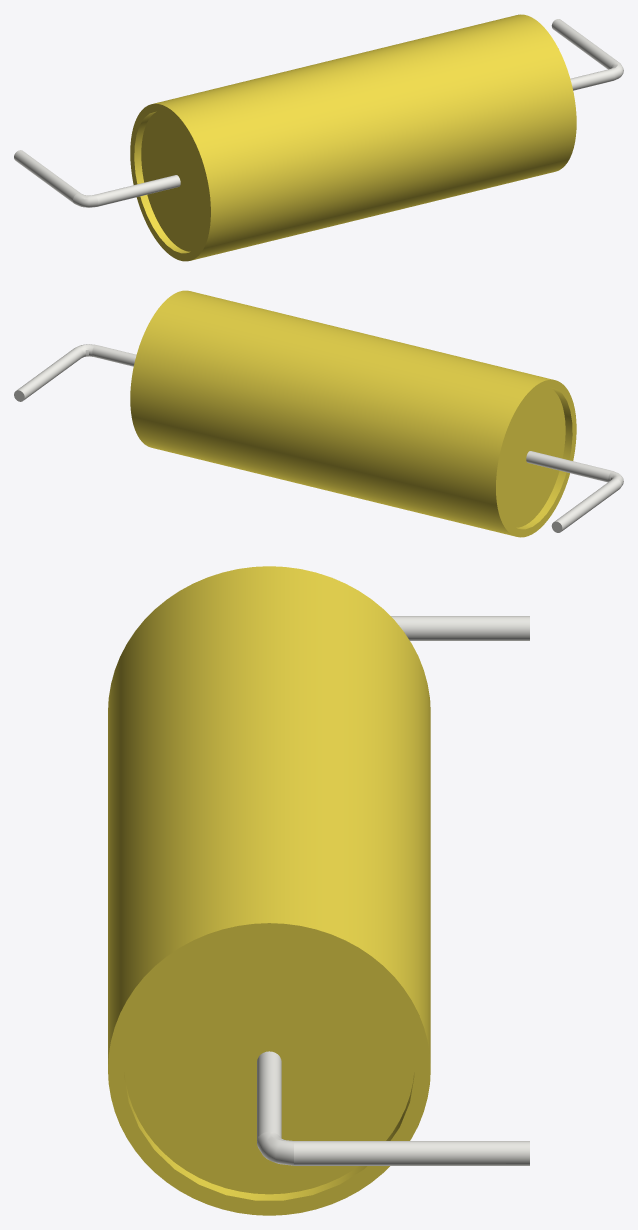
File: C_Axial_L17.0mm_D6.5mm_P25.00mm_Horizontal.glb
The picture shows the model from 3 angles, top to bottom: view 1: azimuth 30°, elevation 25°; view 2: azimuth 150°, elevation 25°; view 3: azimuth 270°, elevation 25°; orthographic projection. The views are drawn at different scales.
Parts seen in each view (by area): view 1: Shape_IndexedFaceSet, Shape_IndexedFaceSet.005, Shape_IndexedFaceSet.001, Shape_IndexedFaceSet.010, Shape_IndexedFaceSet.003, Shape_IndexedFaceSet.008, Shape_IndexedFaceSet.012; view 2: Shape_IndexedFaceSet, Shape_IndexedFaceSet.005, Shape_IndexedFaceSet.001, Shape_IndexedFaceSet.010, Shape_IndexedFaceSet.003, Shape_IndexedFaceSet.012, Shape_IndexedFaceSet.008; view 3: Shape_IndexedFaceSet, Shape_IndexedFaceSet.006, Shape_IndexedFaceSet.002, Shape_IndexedFaceSet.012, Shape_IndexedFaceSet.008, Shape_IndexedFaceSet.010, Shape_IndexedFaceSet.004, Shape_IndexedFaceSet.011.
Boxes of the visible parts, x1,y1,x2,y2 form: Shape_IndexedFaceSet: (153,14,576,260); Shape_IndexedFaceSet.005: (141,111,206,251); Shape_IndexedFaceSet.001: (130,103,210,261); Shape_IndexedFaceSet.010: (94,69,614,206); Shape_IndexedFaceSet.003: (134,111,190,253); Shape_IndexedFaceSet.008: (14,150,80,202); Shape_IndexedFaceSet.012: (551,19,618,69); Shape_IndexedFaceSet: (130,290,553,536); Shape_IndexedFaceSet.005: (500,387,565,527); Shape_IndexedFaceSet.001: (496,379,576,537); Shape_IndexedFaceSet.010: (92,345,611,482); Shape_IndexedFaceSet.003: (516,387,572,529); Shape_IndexedFaceSet.012: (16,347,83,399); Shape_IndexedFaceSet.008: (555,478,621,530); Shape_IndexedFaceSet: (108,566,430,1063); Shape_IndexedFaceSet.006: (124,937,414,1194); Shape_IndexedFaceSet.002: (108,923,430,1215); Shape_IndexedFaceSet.012: (294,1141,529,1165); Shape_IndexedFaceSet.008: (391,616,529,640); Shape_IndexedFaceSet.010: (257,1051,281,1140); Shape_IndexedFaceSet.004: (124,1072,414,1200); Shape_IndexedFaceSet.011: (257,1131,293,1165).
Bounding box in the file's own units: 10.04 × 2.56 × 3.35.
